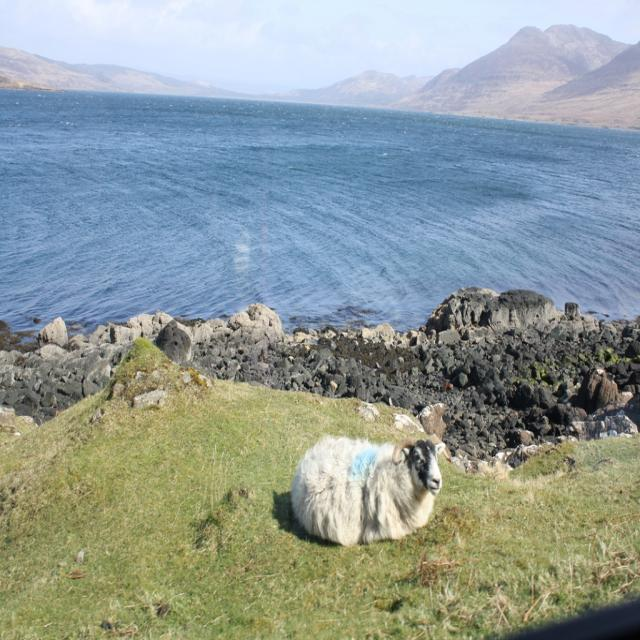Sheep: (288, 439, 444, 546)
